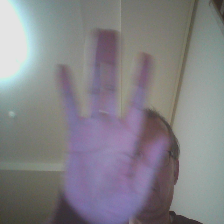hand: (51, 24, 165, 223)
